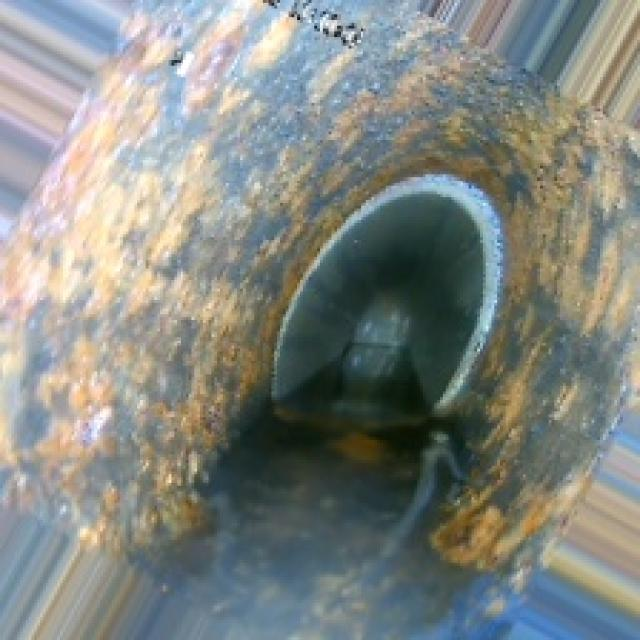encrustation: (97, 71, 594, 468)
